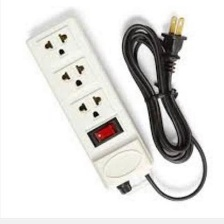three_eye_plug: (23, 13, 157, 196)
